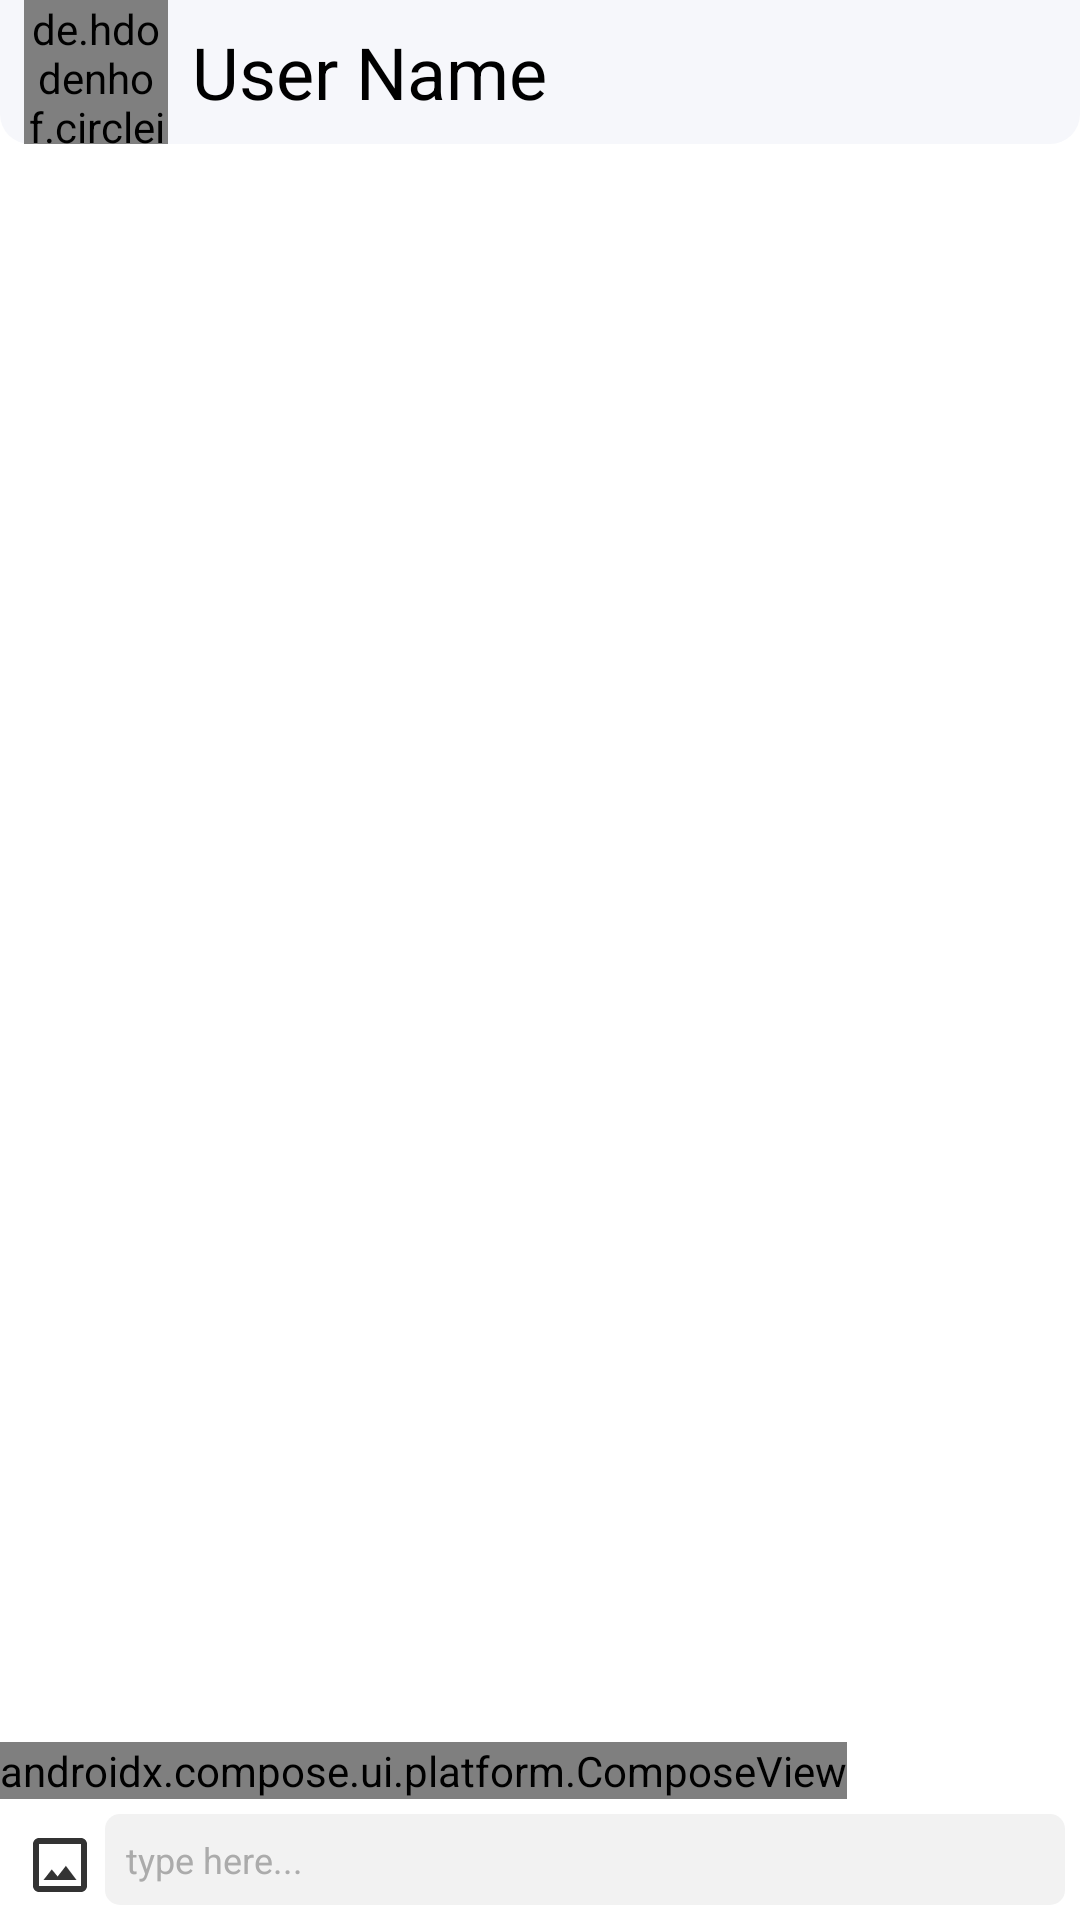

Screen size 1080 x 1920. Icon name, then its box in pixels as rect(x1, y1, x2, y2):
galerie: rect(33, 1838, 87, 1892)
